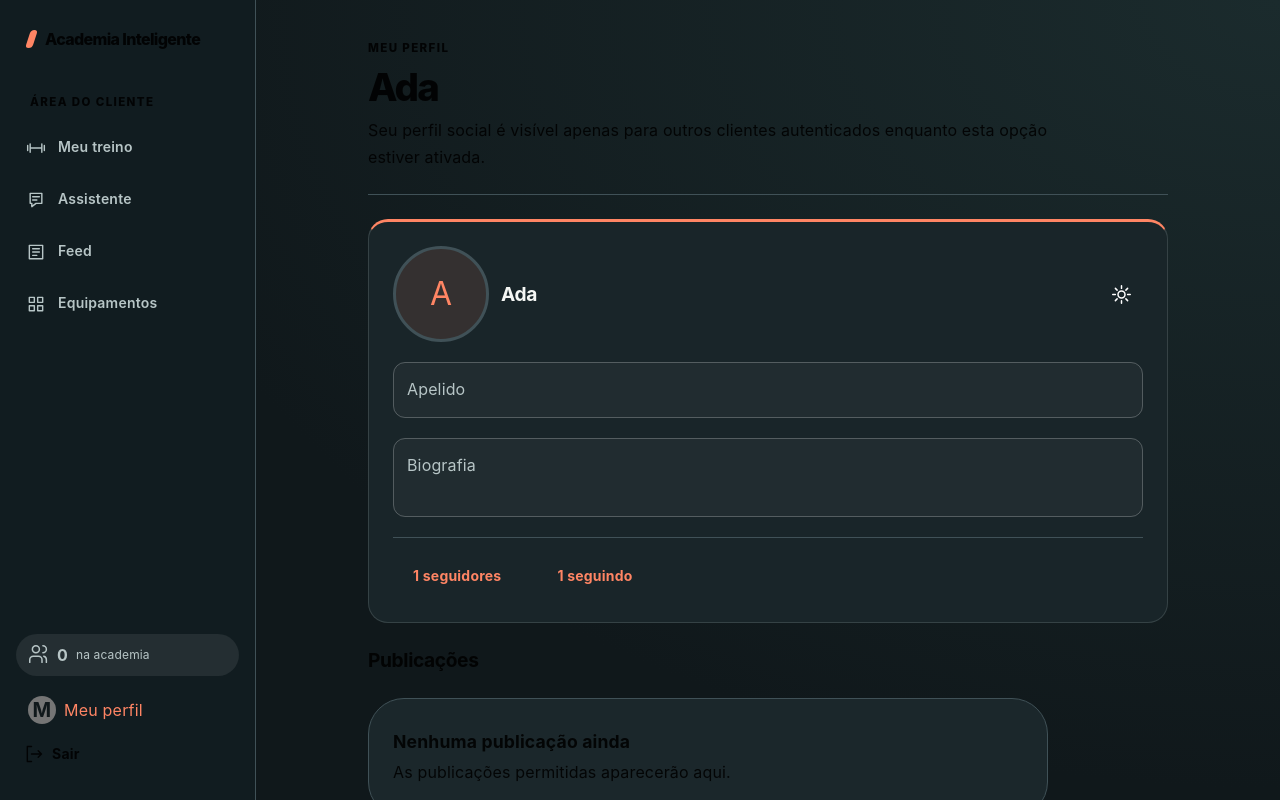
Test: profile count opens the followers list
Click the button "1 seguidores" at (457, 576), box [393,554,521,598]
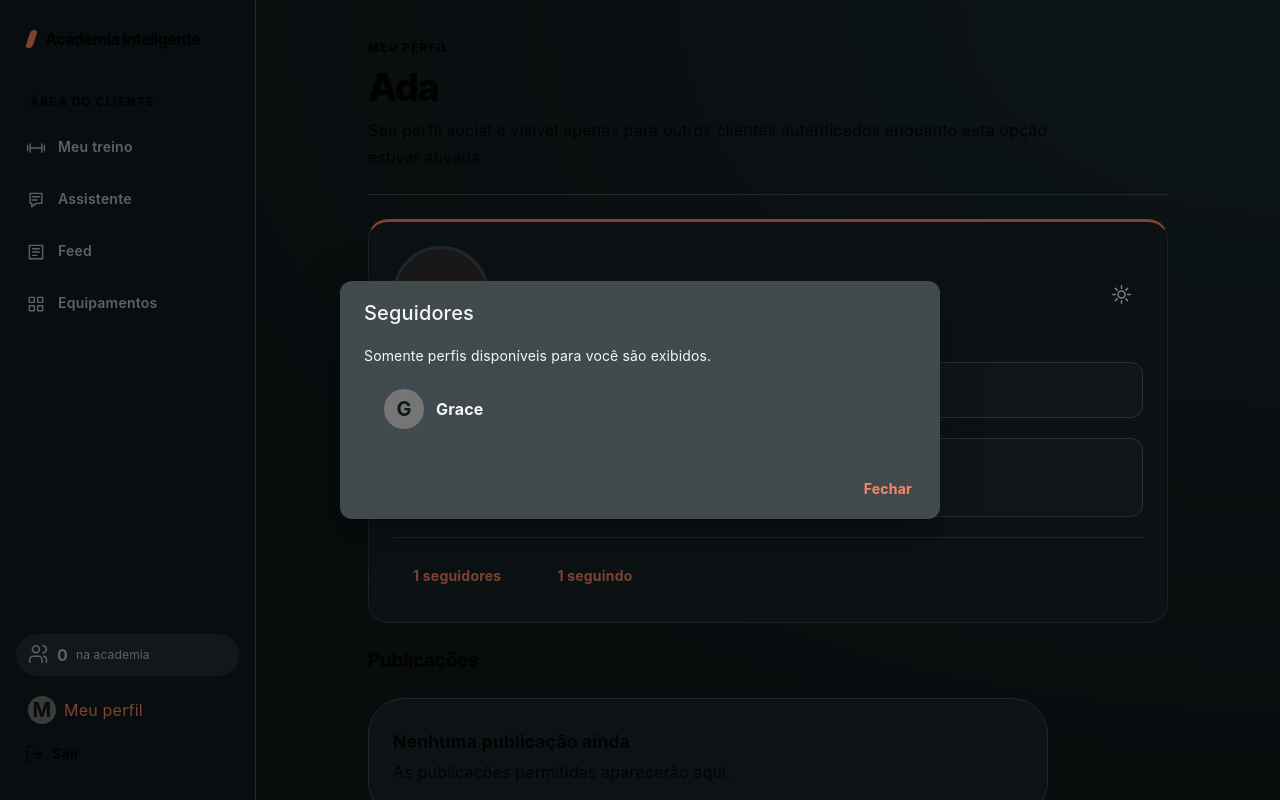
Expected: the dialog "Seguidores" is shown, [340,281,940,519]
